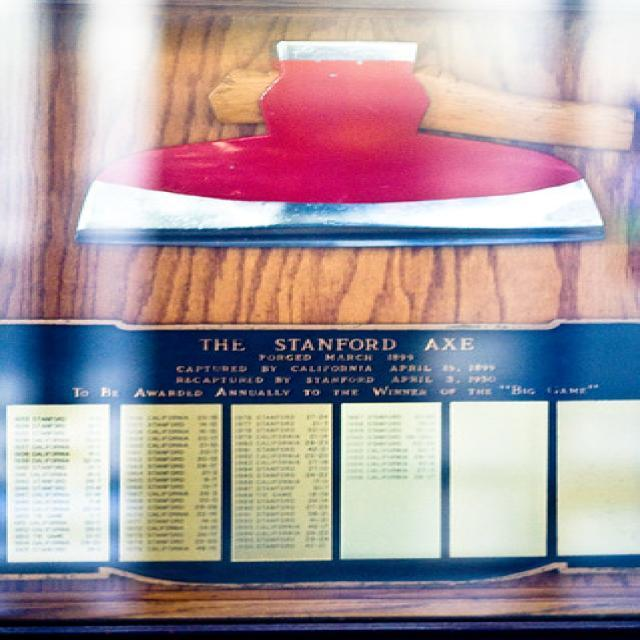Axe: (76, 41, 632, 246)
